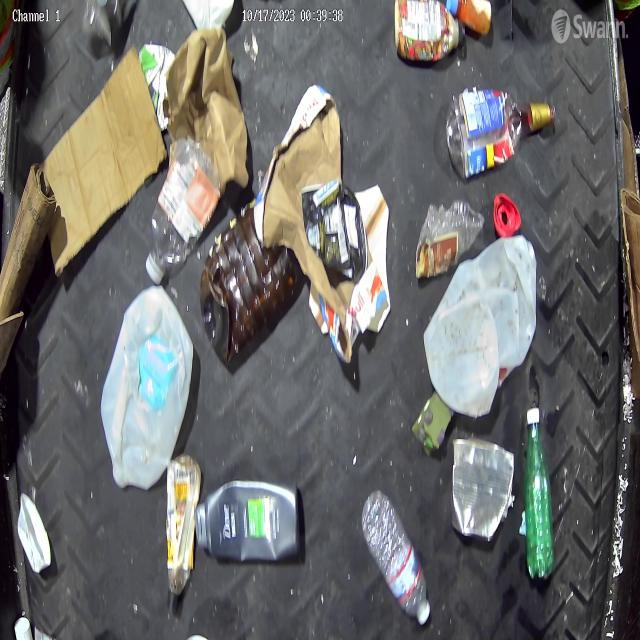can: (450, 437, 516, 540)
milk_jug: (426, 228, 540, 415), (102, 286, 194, 497), (184, 0, 235, 28)
non_white_jug: (196, 481, 304, 561)
plastic_bottle: (147, 136, 221, 284), (361, 487, 432, 624), (447, 90, 557, 177)
